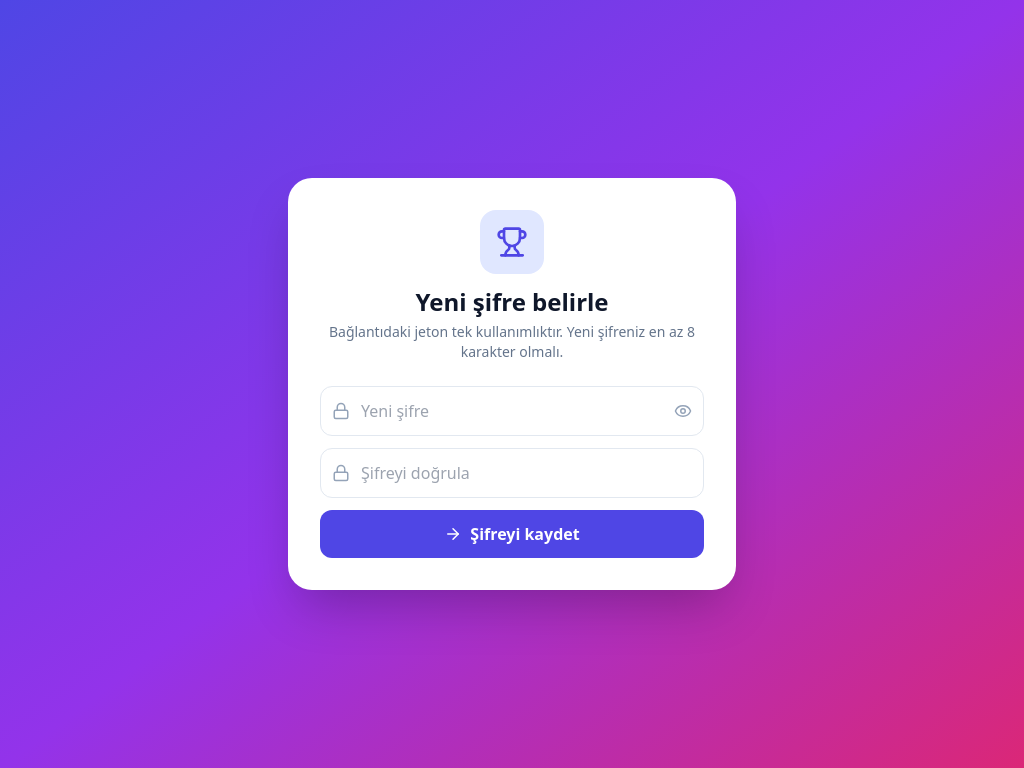
Test: ResetPasswordScreen › blocks a mismatched confirmation
Type "Sup3rSecret!" into the password field with placeholder "Yeni şifre" at (512, 411), box [320,386,704,436]
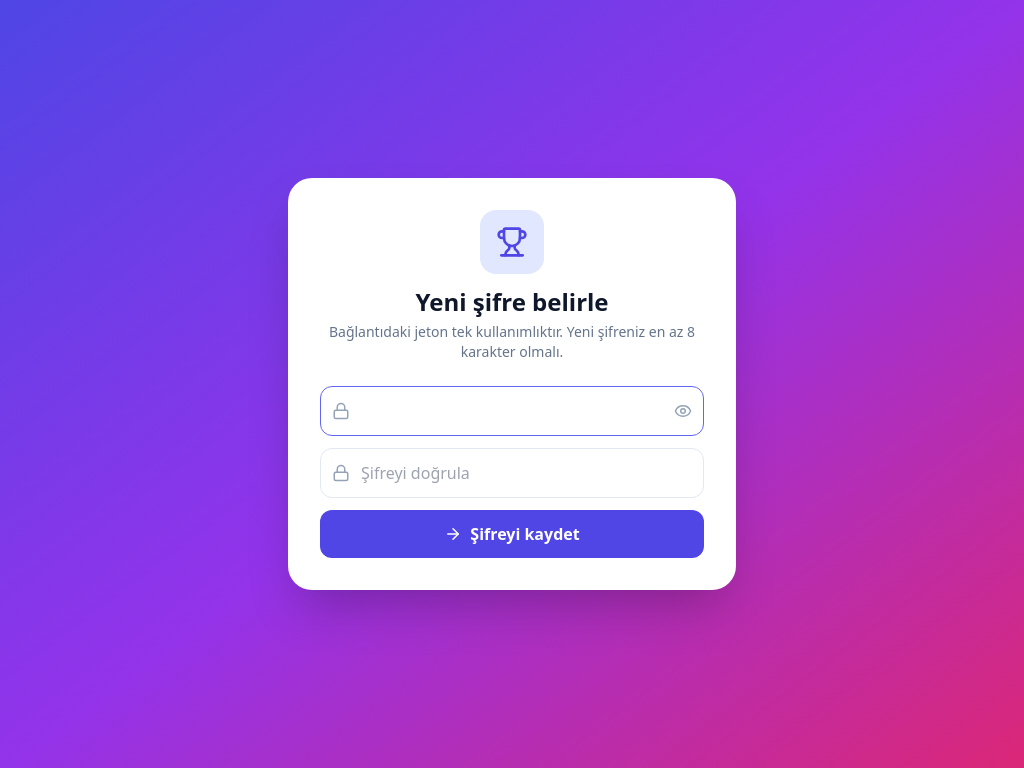
Type "different1" into the password field with placeholder "Şifreyi doğrula" at (512, 473), box [320,448,704,498]
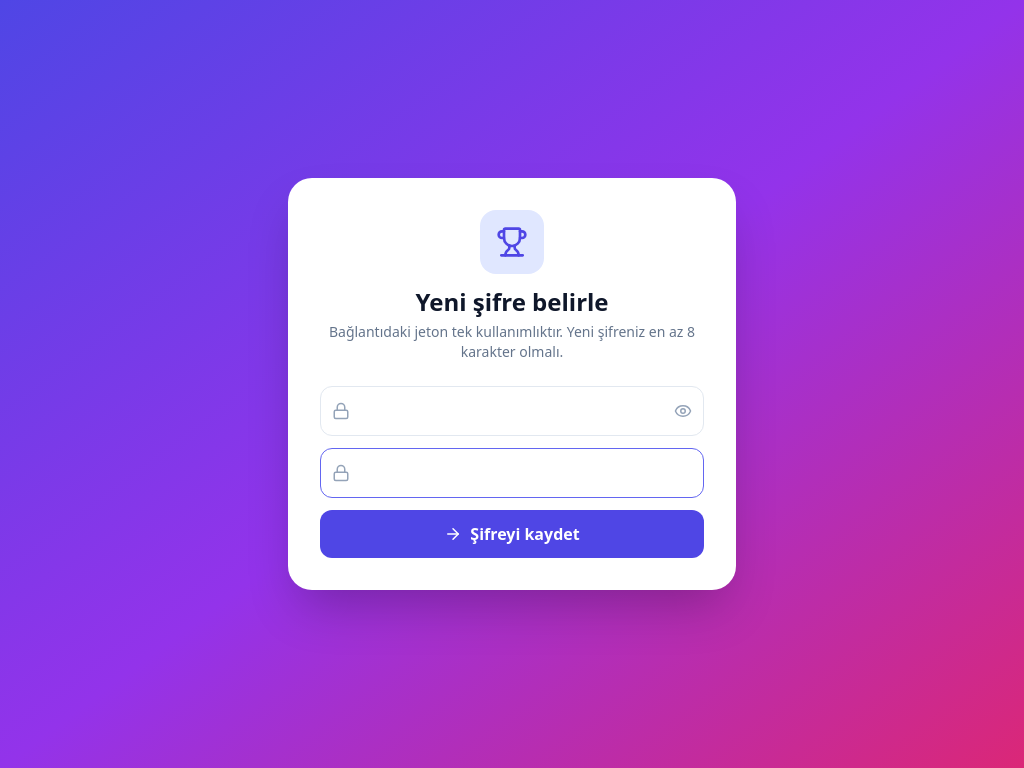
Click the button "Şifreyi kaydet" at (512, 534), box [320,510,704,558]
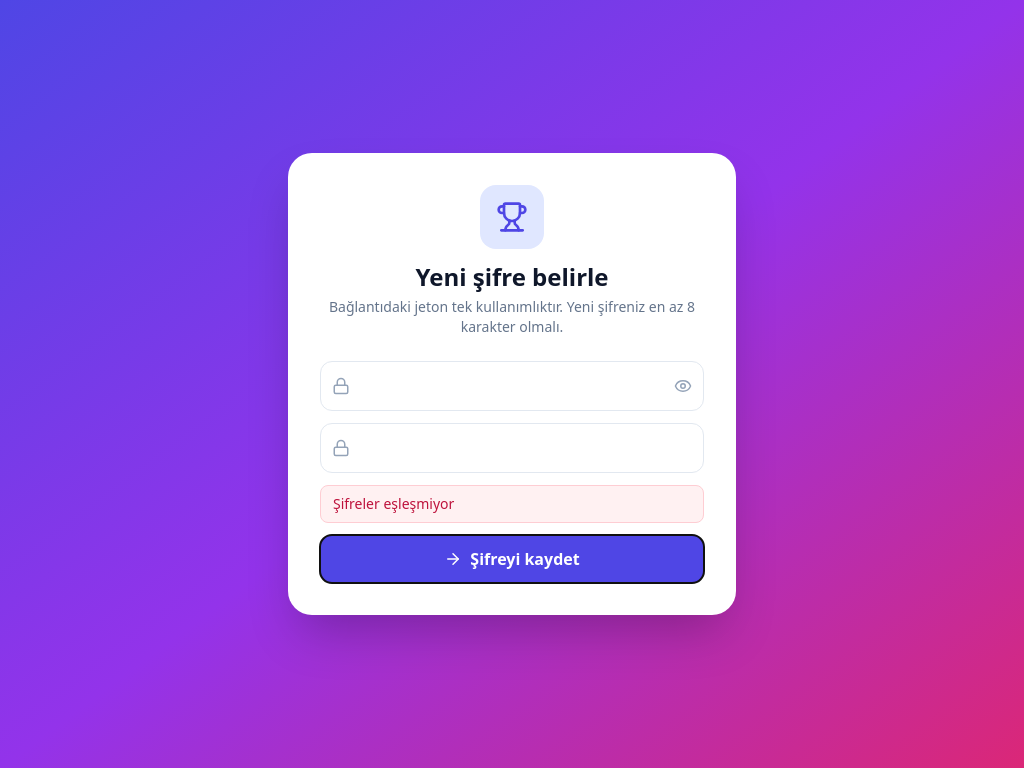
Expected: the text "Şifreler eşleşmiyor" is shown, [320,485,704,523]
